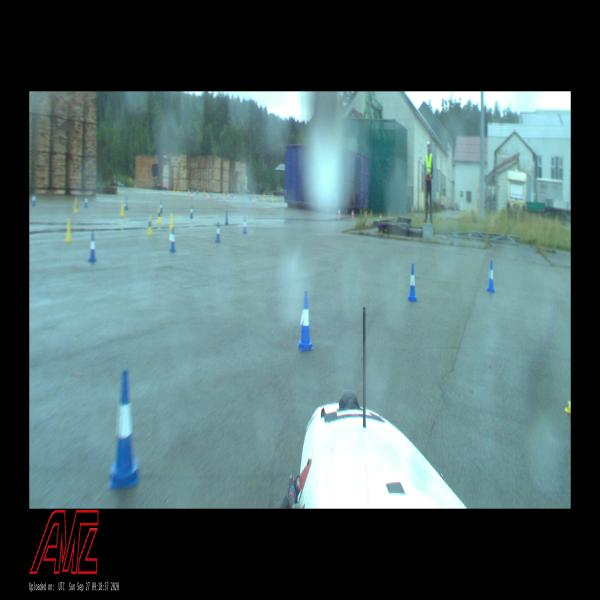blue_cone: (109, 369, 139, 489), (298, 289, 314, 351), (407, 263, 417, 302), (486, 260, 495, 294), (89, 231, 97, 263), (170, 228, 175, 252), (215, 222, 220, 242), (242, 216, 247, 235), (224, 209, 229, 226), (32, 192, 36, 206), (189, 205, 193, 218), (84, 195, 88, 207), (159, 201, 162, 211)
orange_cone: (206, 192, 210, 201), (352, 210, 354, 219), (338, 208, 340, 217)
yellow_cone: (66, 218, 72, 242), (148, 214, 152, 236), (170, 212, 174, 230), (74, 197, 78, 213), (119, 202, 123, 215), (157, 207, 160, 222), (272, 193, 273, 200)
